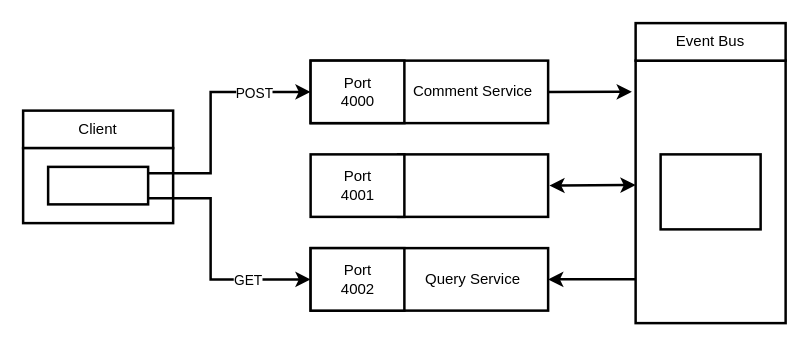
Image size: 808x345. Some labels were removed from this diagram. The shapes that lost their labels are listed below. From the top down, each one's box as (x1, y1, x2, y2) in pixels, then its label:
(46, 165, 149, 205): Postman
(396, 152, 549, 218): Moderation Service
(659, 152, 761, 230): Port 4003
